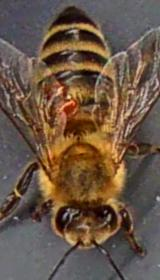varroa_mite: (52, 88, 82, 122), (44, 70, 70, 98)
